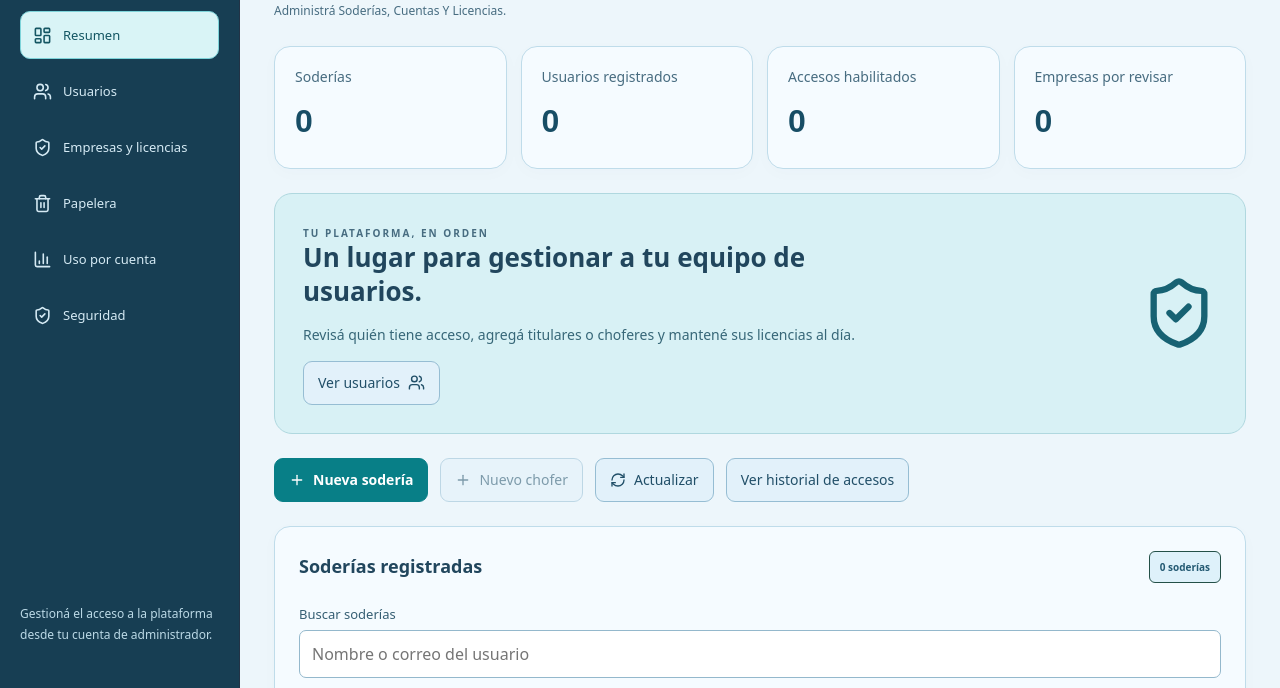
Test: crea una sodería usando la función segura y limpia la contraseña al completar
Click the button "Nueva sodería".
click(351, 480)  # box [274,458,428,502]
(page scrolled)
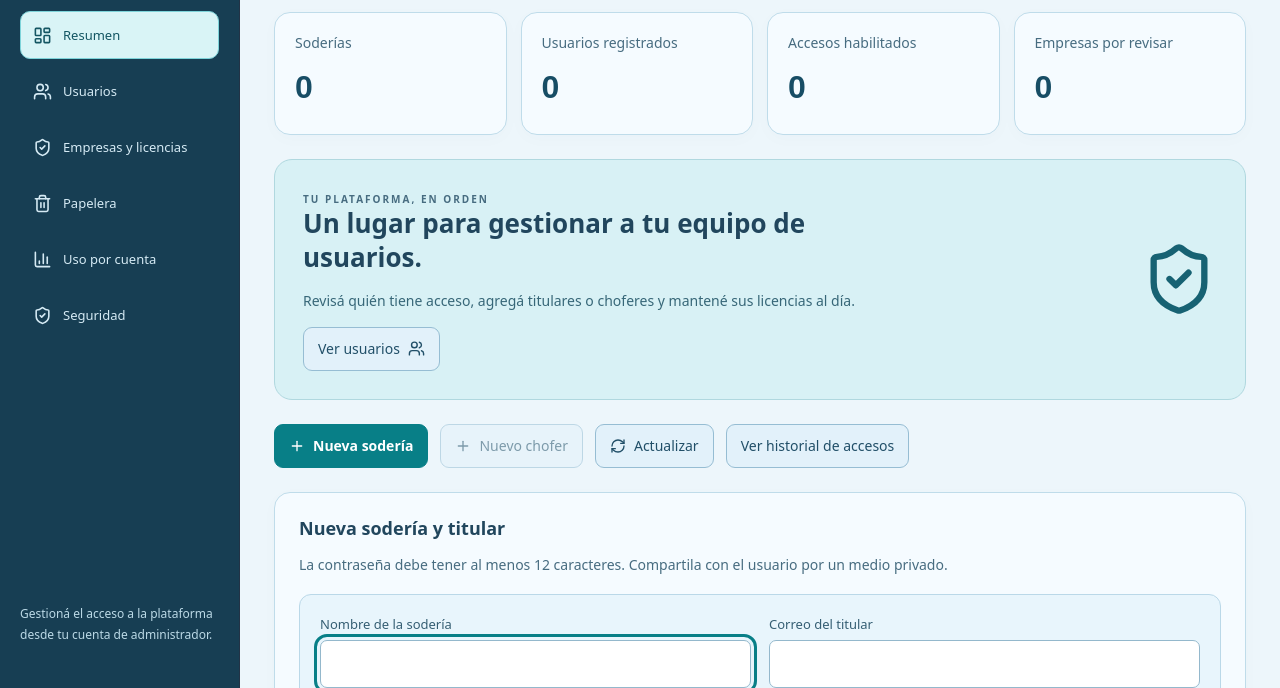
Type "Sodería Norte" into the field labelled "Nombre de la sodería".
click(536, 664); type("Sodería Norte")  # box [320,640,751,687]
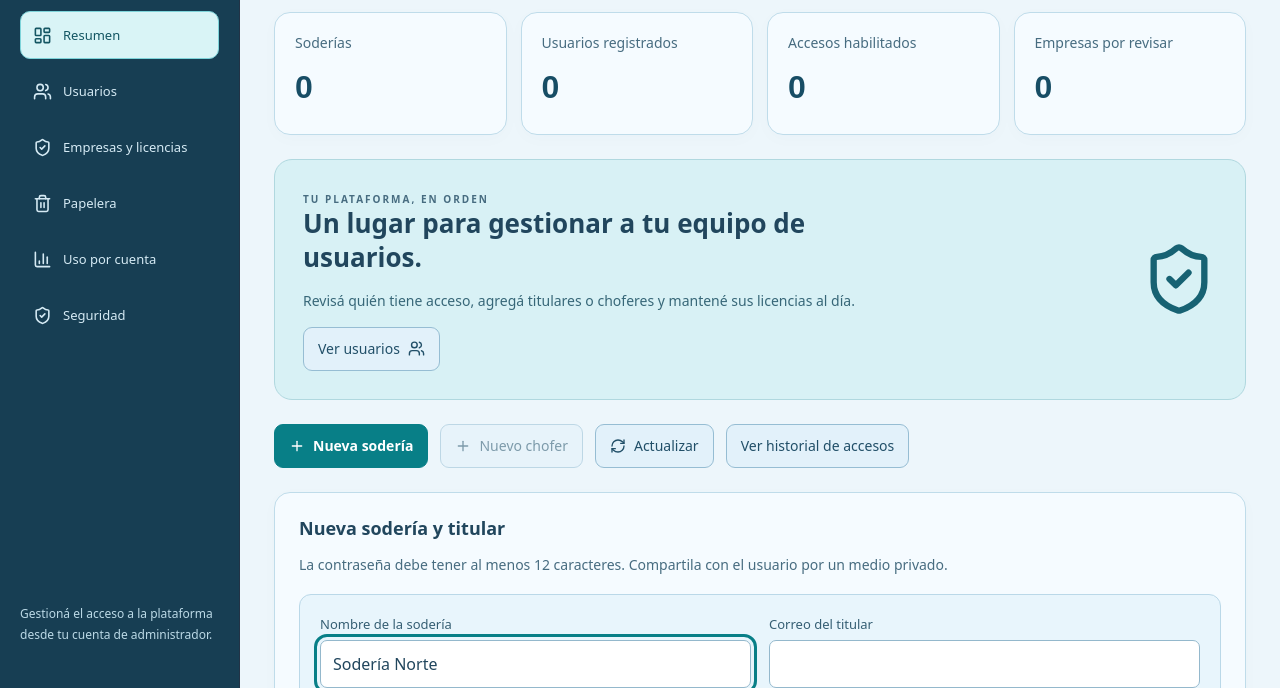
Type "owner@example.test" into the field labelled "Correo del titular".
click(984, 664); type("owner@example.test")  # box [769,640,1200,687]
(page scrolled)
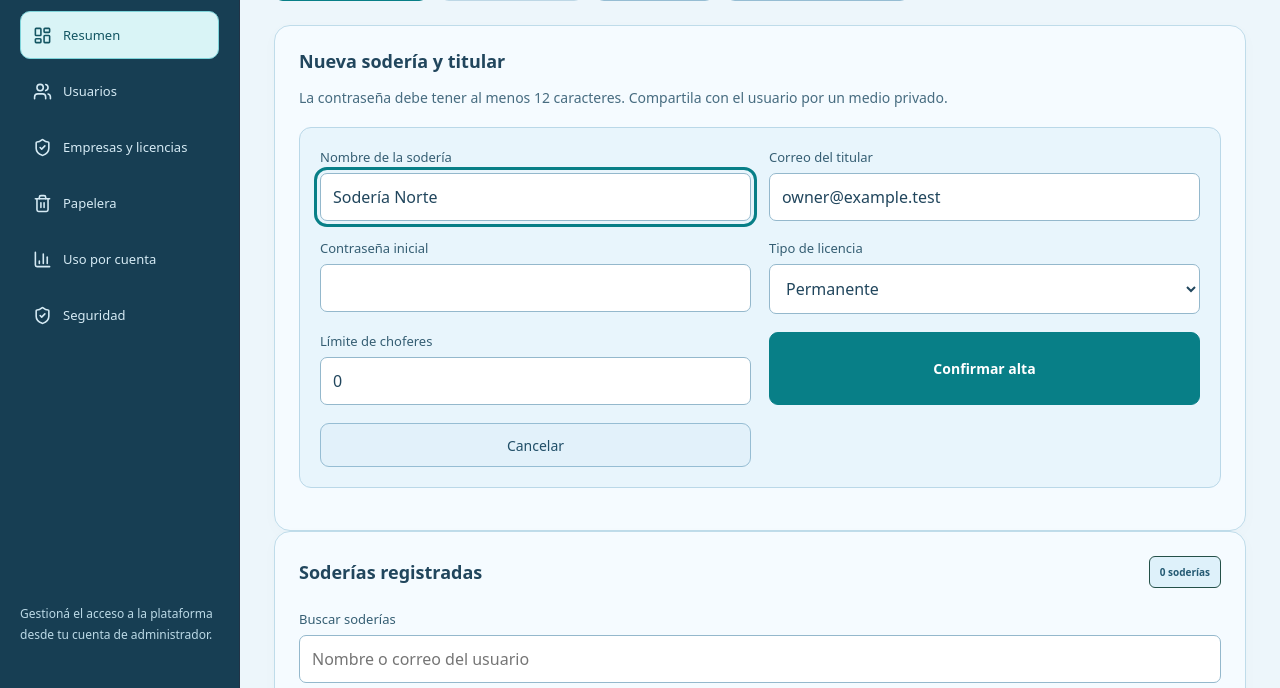
Type "test-password-123" into the password field labelled "Contraseña inicial".
click(536, 288); type("test-password-123")  # box [320,264,751,312]
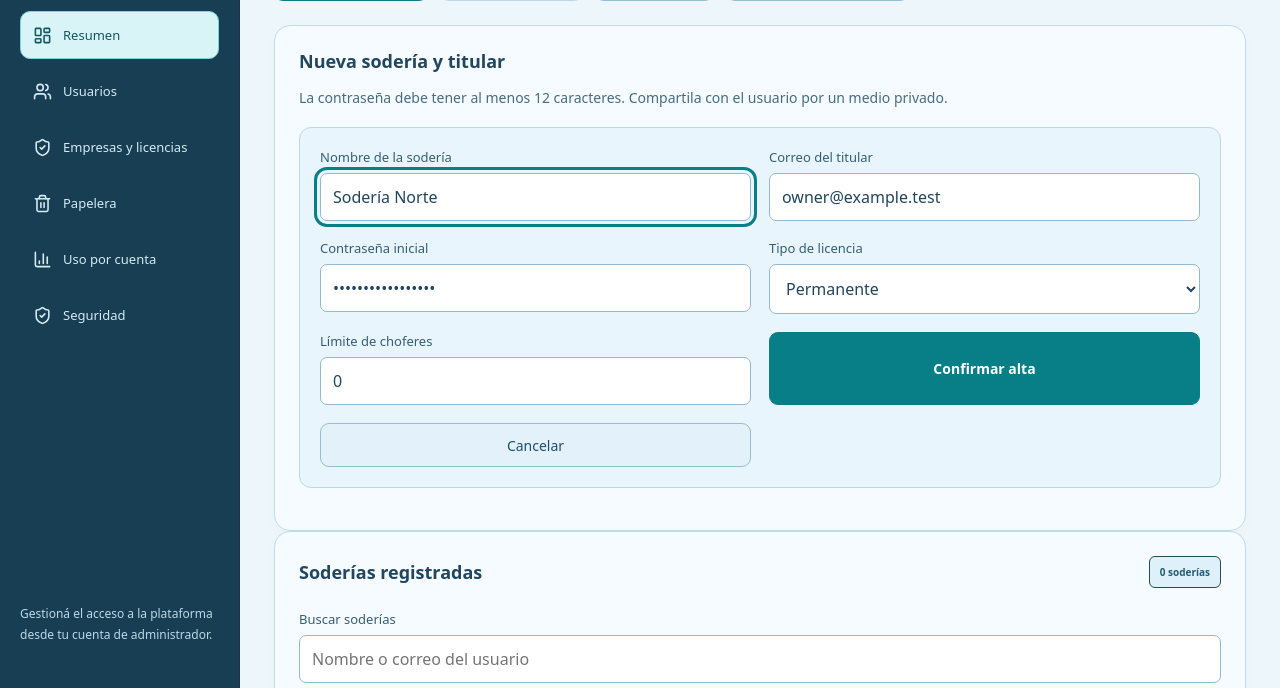
Click the button "Confirmar alta".
click(984, 369)  # box [769,332,1200,405]
(page scrolled)
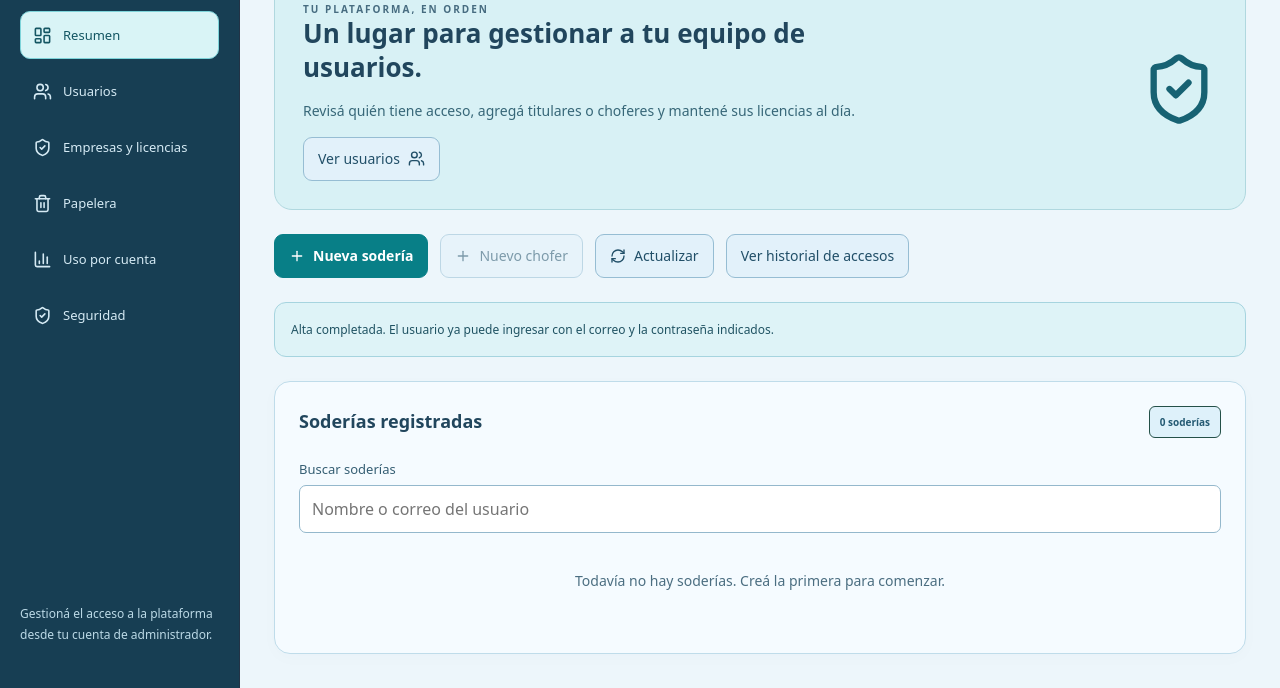
Expected: the text "Alta completada" is shown, [291,321,774,338]
Expected: the label labelled "Contraseña inicial" is gone
